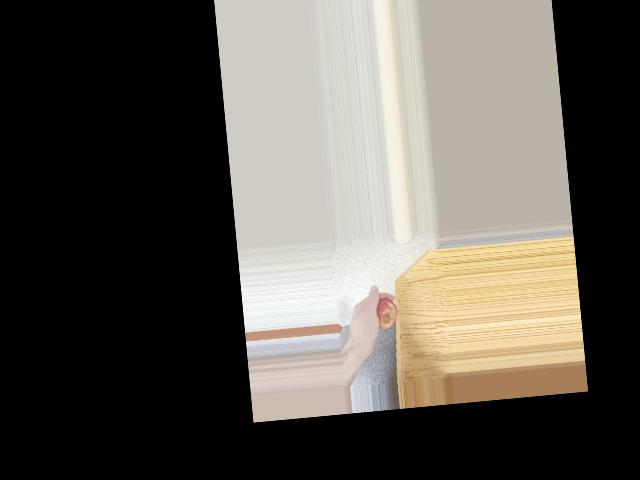apple: (363, 296, 400, 334)
